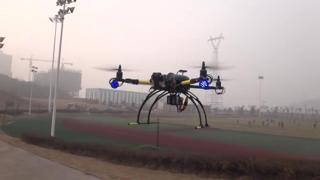UAV: (96, 62, 230, 129)
